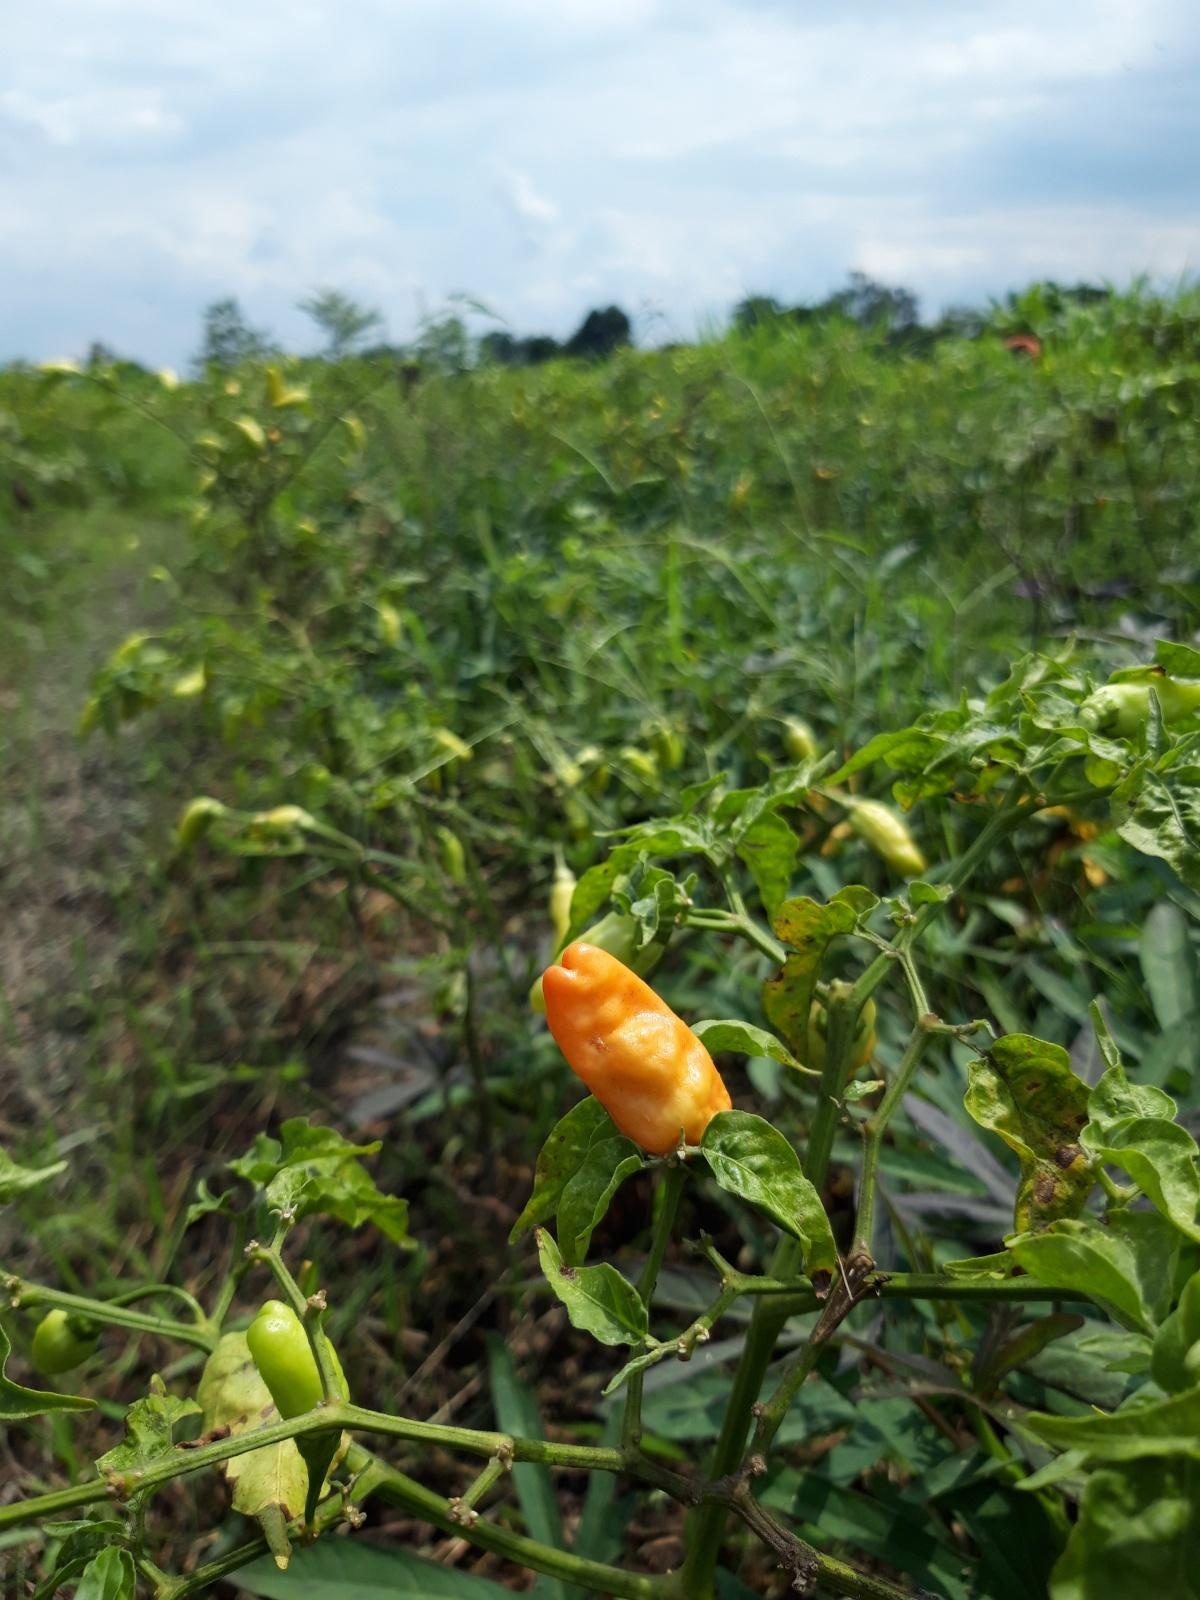cabai_normal: (542, 945, 737, 1159), (247, 1298, 350, 1445), (1075, 670, 1199, 737), (847, 799, 928, 878), (32, 1305, 105, 1377)
